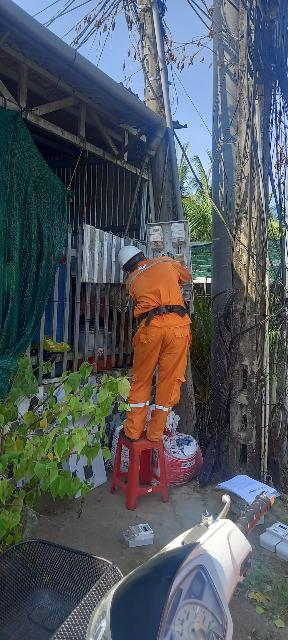harness: (124, 301, 198, 323)
helmet: (109, 241, 145, 270)
shoes: (116, 428, 139, 442)
